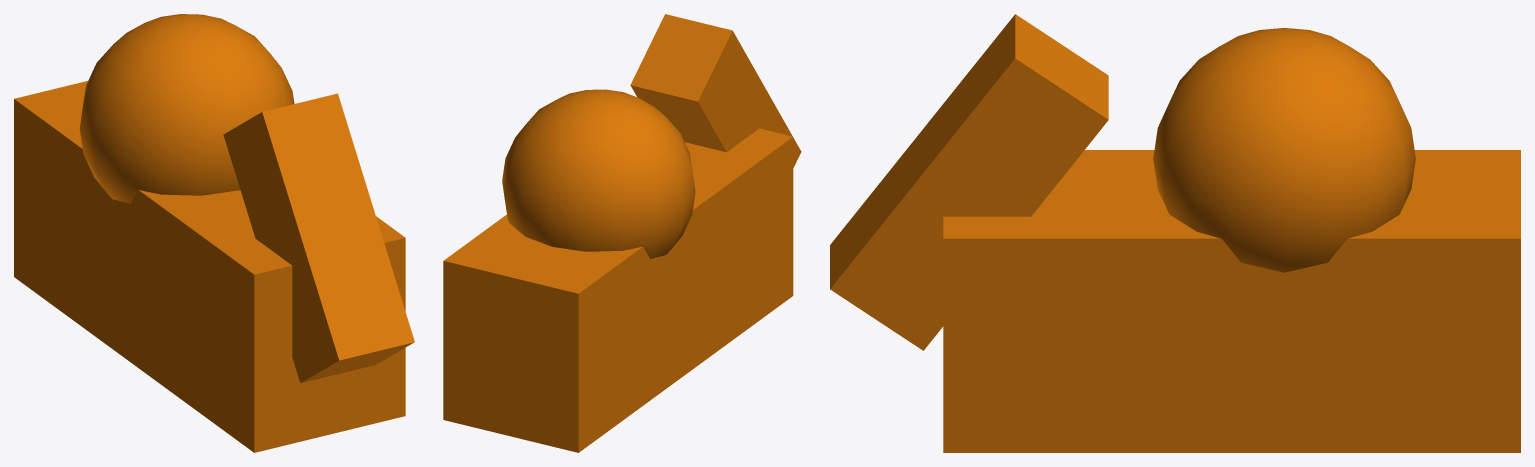
Rendered from camel.glb.
3 renders of one model, left to right at view 1: azimuth 30°, elevation 25°; view 2: azimuth 150°, elevation 25°; view 3: azimuth 270°, elevation 25°, orthographic. The views are drawn at different scales.
Bounding box in the file's own units: 0.3801 × 0.5948 × 1.
